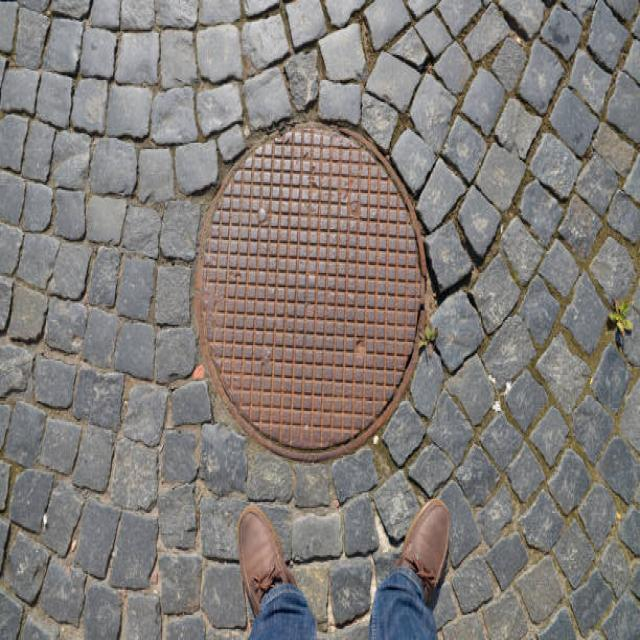Good: (186, 106, 439, 469)
